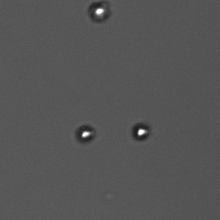Living Cell: (85, 1, 115, 23), (128, 122, 156, 141), (74, 124, 97, 145)
